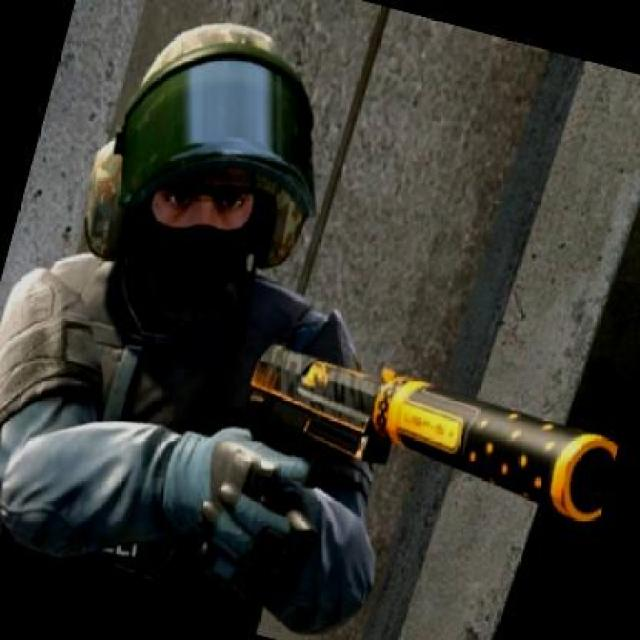MIL_Pax: (0, 0, 501, 638)
